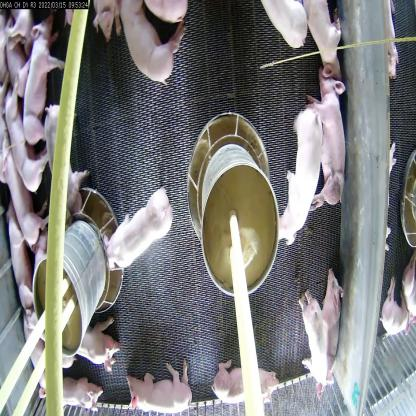Pig: (280, 100, 320, 268), (102, 184, 180, 270), (306, 55, 347, 206), (118, 0, 190, 80), (2, 129, 48, 247), (20, 16, 61, 138), (6, 80, 49, 192), (124, 356, 202, 412), (296, 281, 332, 400), (5, 203, 38, 313), (321, 268, 348, 389), (54, 362, 106, 416), (382, 274, 416, 350)
